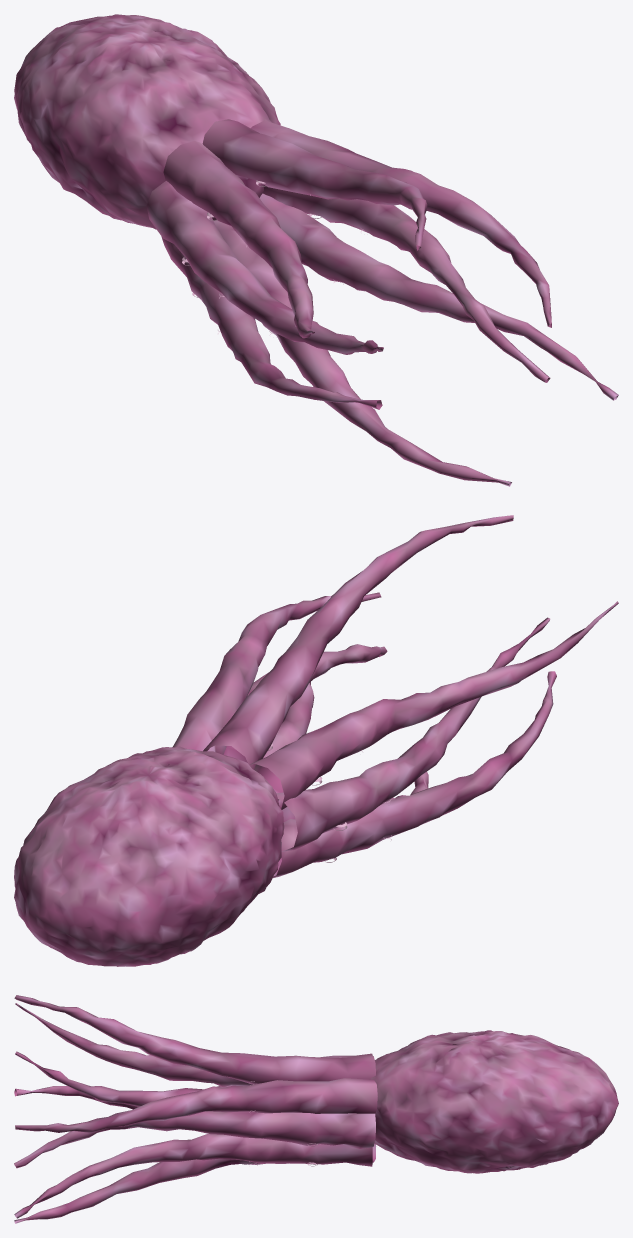
The model's file is ixil_cruiser.glb.
3 views of the same model, one above another, from view 1: azimuth 30°, elevation 25°; view 2: azimuth 150°, elevation 25°; view 3: azimuth 270°, elevation 25° (orthographic). The views are drawn at different scales.
Parts seen in each view (by area): view 1: ixil_cruiser; view 2: ixil_cruiser; view 3: ixil_cruiser.
Boxes of the visible parts, x1,y1,x2,y2 form: ixil_cruiser: [14, 14, 618, 486]; ixil_cruiser: [14, 515, 618, 966]; ixil_cruiser: [14, 995, 618, 1223].
Bounding box in the file's own units: 4.34 × 3.68 × 10.
